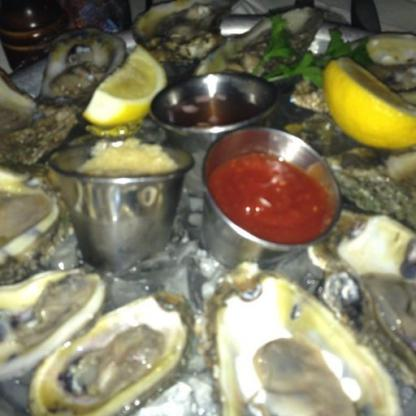oyster: (206, 269, 395, 415), (33, 292, 190, 415), (0, 269, 104, 385)
